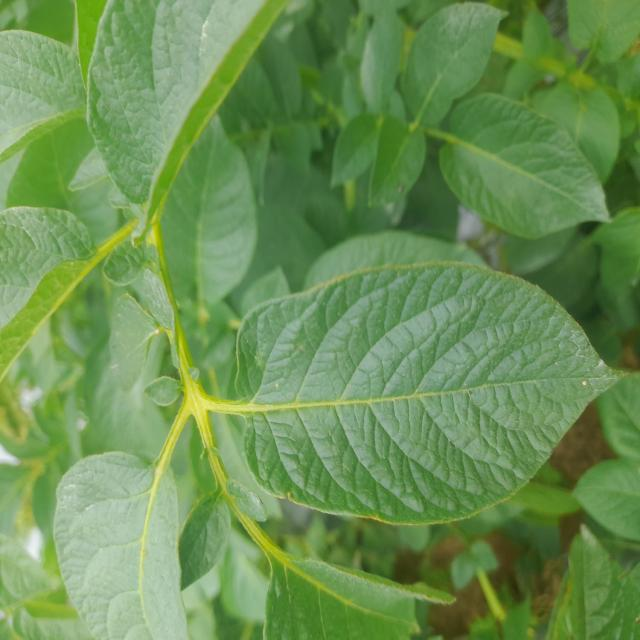healthy: (230, 256, 622, 528)
